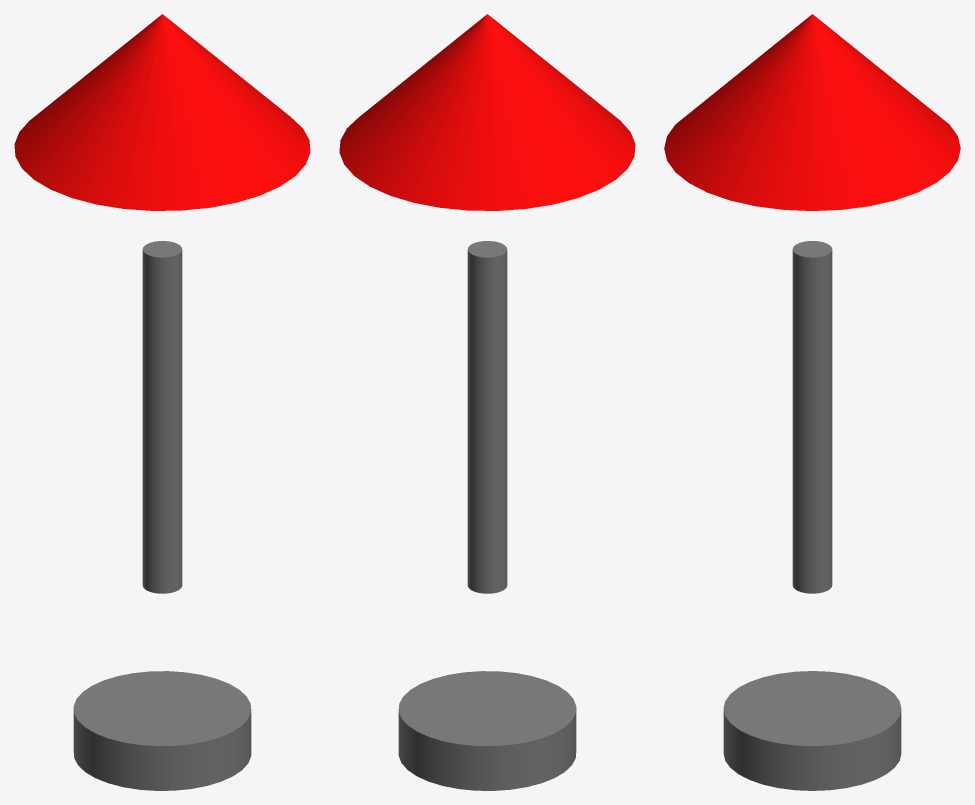
File: lamp.glb
The picture shows the model from 3 angles, left to right: view 1: azimuth 30°, elevation 25°; view 2: azimuth 150°, elevation 25°; view 3: azimuth 270°, elevation 25°; orthographic projection.
Parts seen in each view (by area): view 1: lampshade, base, stem; view 2: lampshade, base, stem; view 3: lampshade, base, stem.
Part boxes in pixels (bbox=[...]): lampshade: bbox=[14, 14, 310, 210]; base: bbox=[73, 671, 251, 790]; stem: bbox=[142, 241, 182, 593]; lampshade: bbox=[339, 14, 635, 210]; base: bbox=[398, 671, 576, 790]; stem: bbox=[467, 241, 507, 593]; lampshade: bbox=[664, 14, 960, 210]; base: bbox=[723, 671, 901, 790]; stem: bbox=[792, 241, 832, 593].
Bounding box in the file's own units: 0.3 × 0.825 × 0.3.
